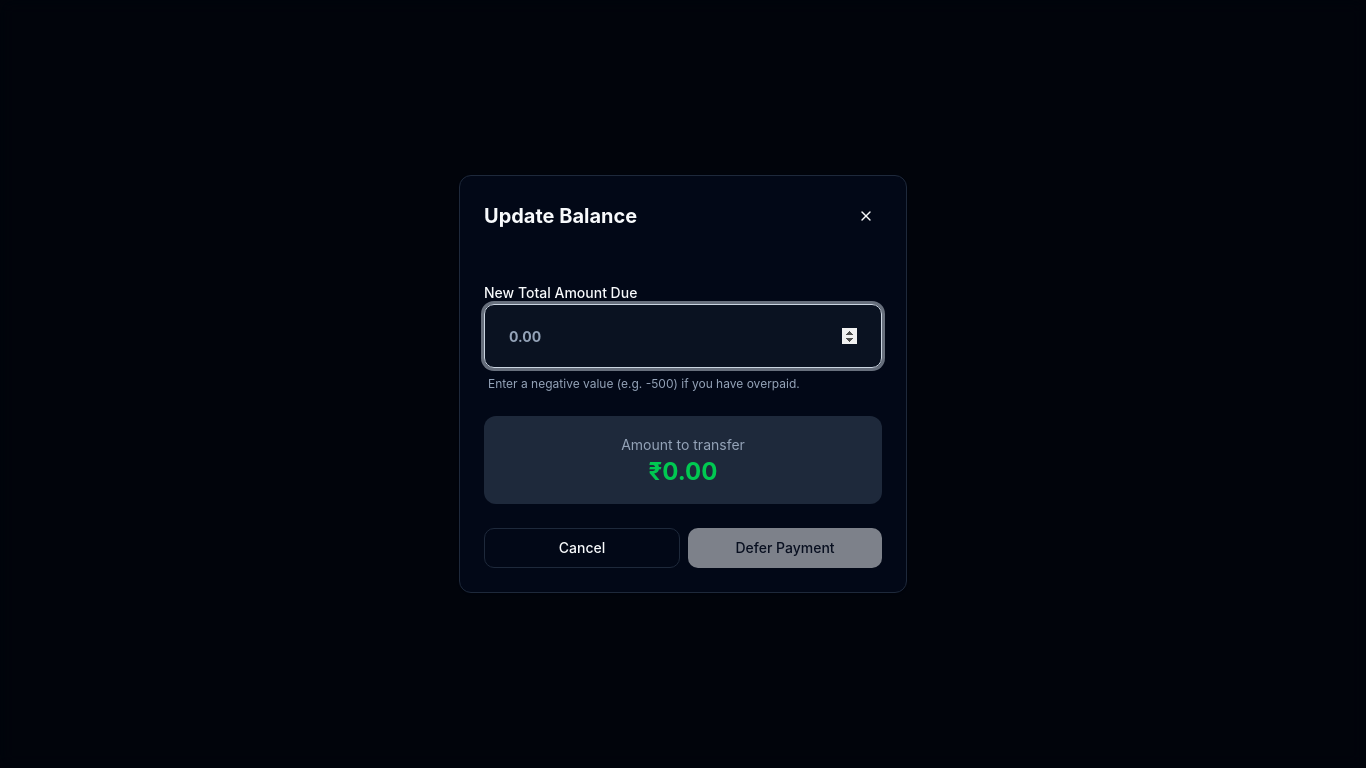
UpdateTransactionModal › calculates delta correctly when new amount is greater than current
This screenshot has width=1366, height=768.
Type "2000" into the number field with placeholder "0.00" at (683, 336), box [484, 304, 882, 368]
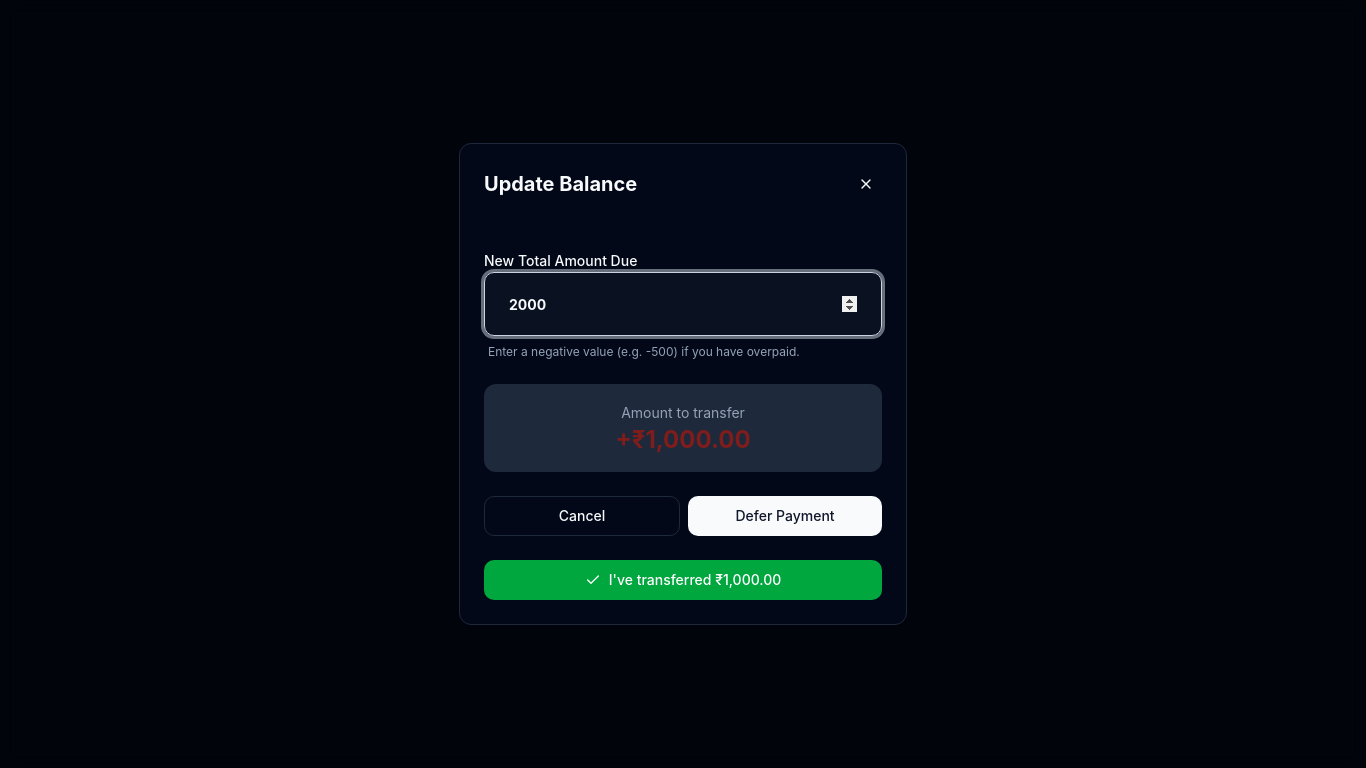
Expected: the text "Amount to transfer" is shown, [621, 404, 745, 421]
Result: the text "+₹1,000.00" is shown at [615, 425, 751, 454]
